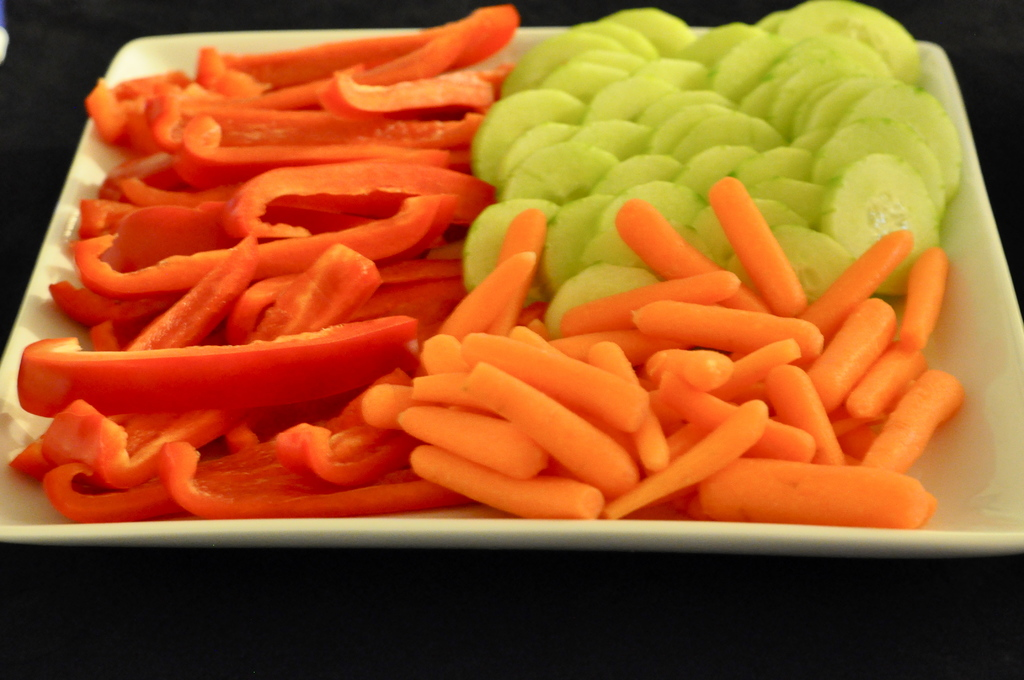Carrot: (361, 176, 965, 529)
